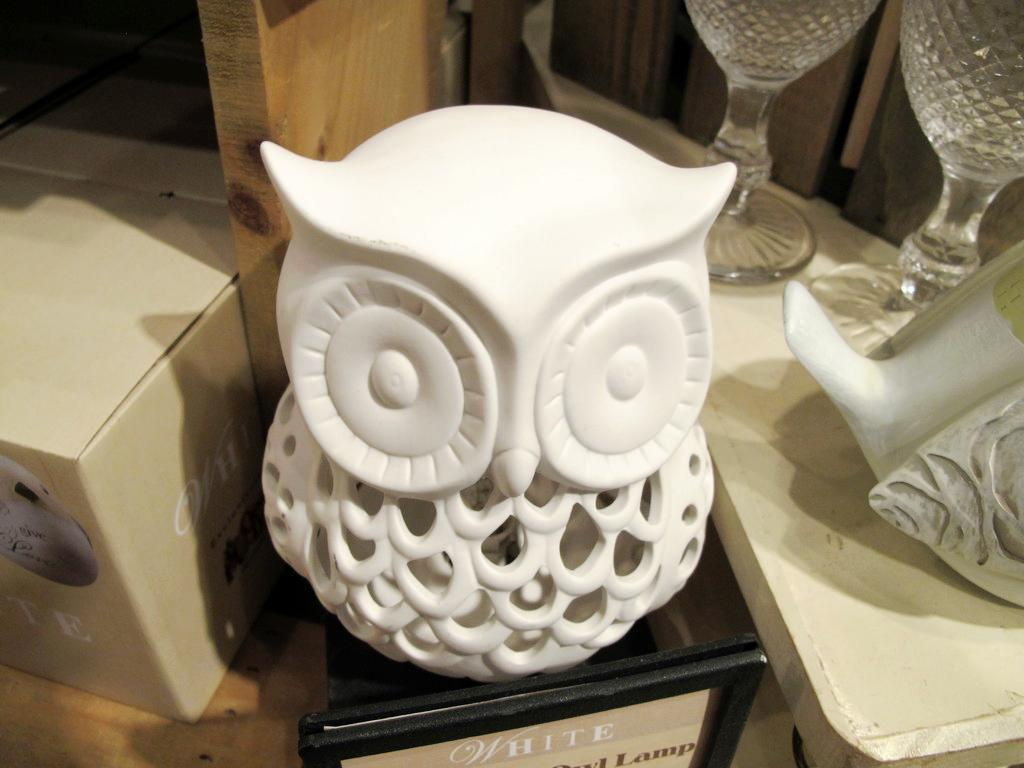Owl: (260, 104, 744, 686)
